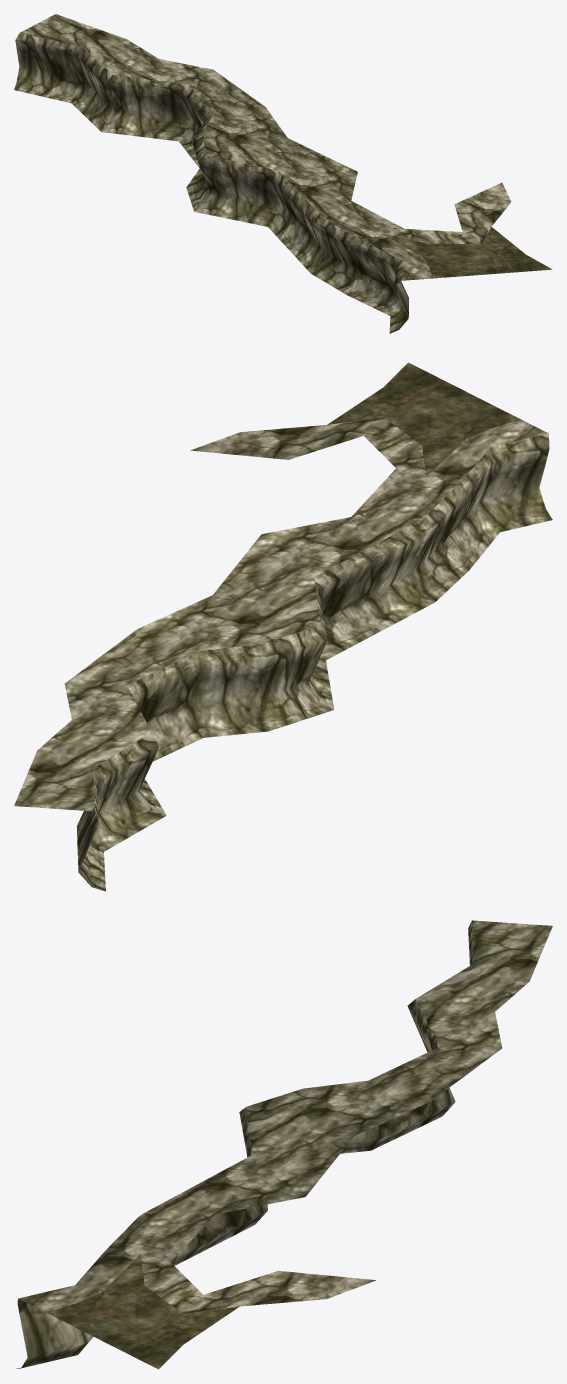
Rendered from CB_NEWPLAYSURFACE_CB_PLAYSURFACE95.fbx.
The picture shows the model from 3 angles, top to bottom: view 1: azimuth 30°, elevation 25°; view 2: azimuth 150°, elevation 25°; view 3: azimuth 330°, elevation 25°; orthographic projection. The views are drawn at different scales.
Visible parts, largest first — view 1: CB_NEWPLAYSURFACE_CB_PLAYSURFACE95; view 2: CB_NEWPLAYSURFACE_CB_PLAYSURFACE95; view 3: CB_NEWPLAYSURFACE_CB_PLAYSURFACE95.
Boxes of the visible parts, x1=… form: CB_NEWPLAYSURFACE_CB_PLAYSURFACE95: x1=14, y1=14, x2=552, y2=333; CB_NEWPLAYSURFACE_CB_PLAYSURFACE95: x1=14, y1=362, x2=552, y2=891; CB_NEWPLAYSURFACE_CB_PLAYSURFACE95: x1=16, y1=920, x2=552, y2=1369.
Size of the model in its own units: 144747 by 35647 by 450899.
3 materials, 3 textured.
